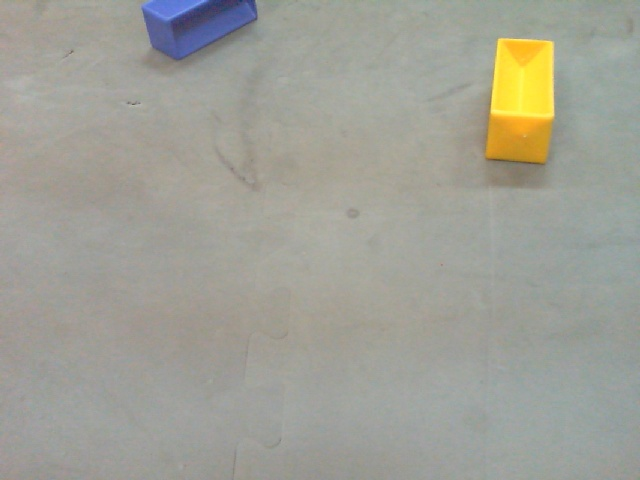BlueSample: (140, 1, 262, 59)
YellowSample: (485, 37, 557, 167)
